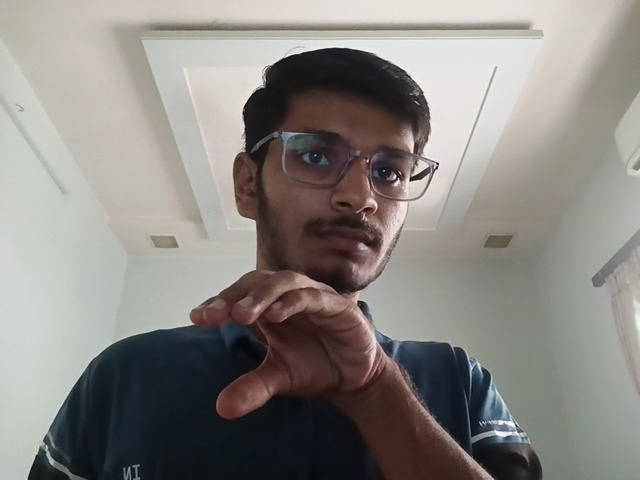No: (184, 264, 405, 431)
